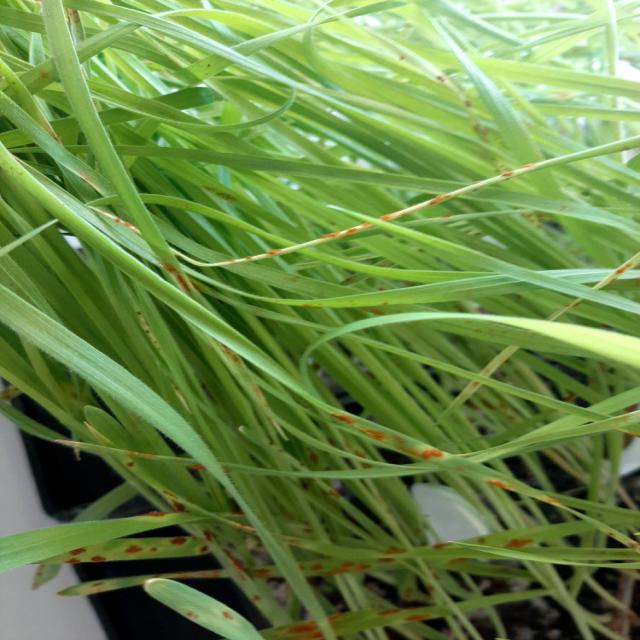wheat-stemrust: (177, 170, 531, 267), (143, 578, 266, 640), (20, 534, 212, 565), (331, 413, 445, 461), (484, 479, 596, 514), (452, 524, 556, 554), (582, 516, 640, 553), (264, 618, 323, 640), (299, 559, 370, 577), (164, 262, 200, 294), (377, 606, 430, 623), (598, 264, 629, 287), (135, 511, 171, 518), (330, 614, 350, 620)
